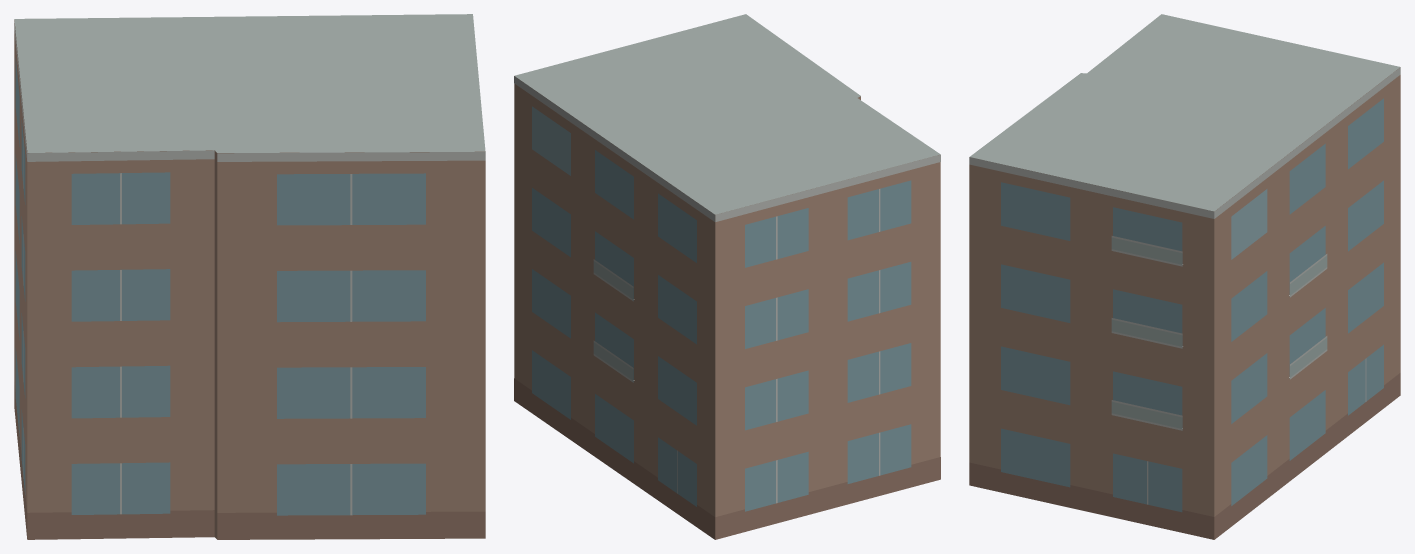
Rendered from survey-upis-32666248.glb.
3 renders of one model, left to right at view 1: azimuth 30°, elevation 25°; view 2: azimuth 150°, elevation 25°; view 3: azimuth 270°, elevation 25°, orthographic. The views are drawn at different scales.
Parts seen in each view (by area): view 1: survey-upis-32666248.tmp; view 2: survey-upis-32666248.tmp; view 3: survey-upis-32666248.tmp.
Boxes of the visible parts, x1,y1,x2,y2 form: survey-upis-32666248.tmp: [14, 14, 485, 539]; survey-upis-32666248.tmp: [514, 14, 940, 539]; survey-upis-32666248.tmp: [969, 14, 1400, 539].
Bounding box in the file's own units: 13.68 × 10.6 × 12.62.
